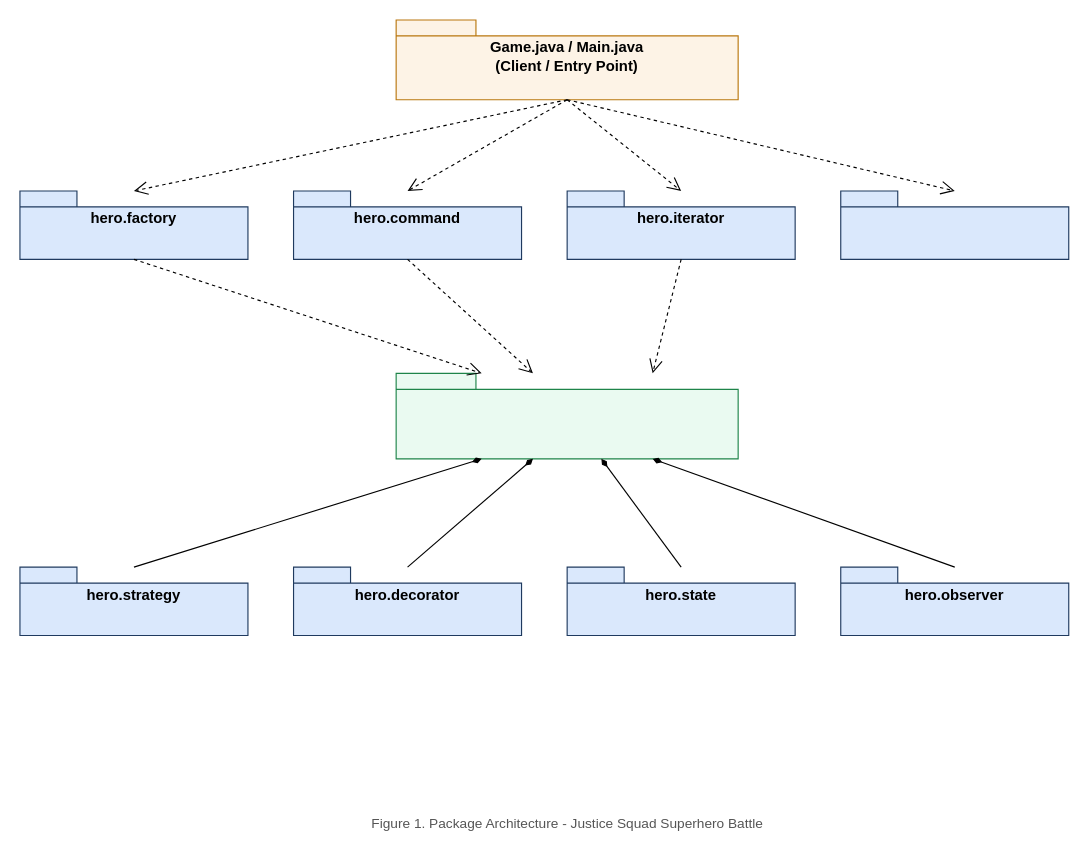
Some shapes in this 1089 by 861 pixel diagram are drawn without their labels. Here are the shapes that lost their labels. From the top down, the box of each, then its label:
(840, 190, 1069, 259): hero.singleton
(395, 372, 738, 459): hero.core (Hero, Villain)
